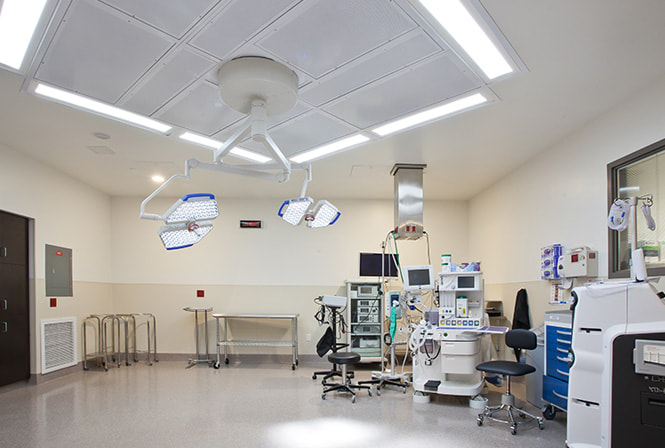bedside_monitor: (358, 253, 399, 279), (403, 266, 435, 290), (456, 275, 477, 289)
breathing_tube: (407, 322, 440, 353)
chair: (473, 328, 545, 434), (85, 309, 157, 373), (321, 351, 371, 403)
handle: (1, 298, 8, 312), (1, 321, 8, 335), (1, 246, 8, 259)
iv_pole: (607, 192, 654, 279)
medical_drawer: (540, 310, 579, 419), (441, 336, 474, 376)
surgical_light: (161, 193, 219, 251), (278, 197, 342, 230)
utility_cart: (210, 312, 299, 370)
ventilator: (409, 272, 486, 389)
